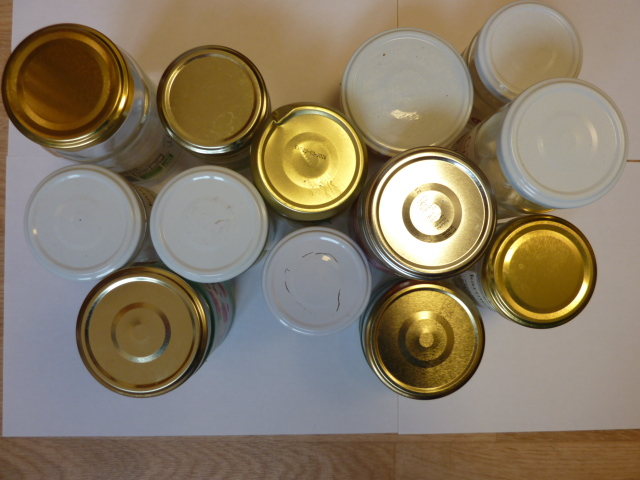damaged: (255, 102, 368, 220)
intact: (339, 25, 474, 159), (495, 76, 628, 208), (73, 269, 205, 399), (367, 147, 496, 280), (363, 282, 487, 401), (21, 167, 143, 282), (153, 45, 268, 154), (490, 214, 597, 330), (476, 2, 583, 102)
